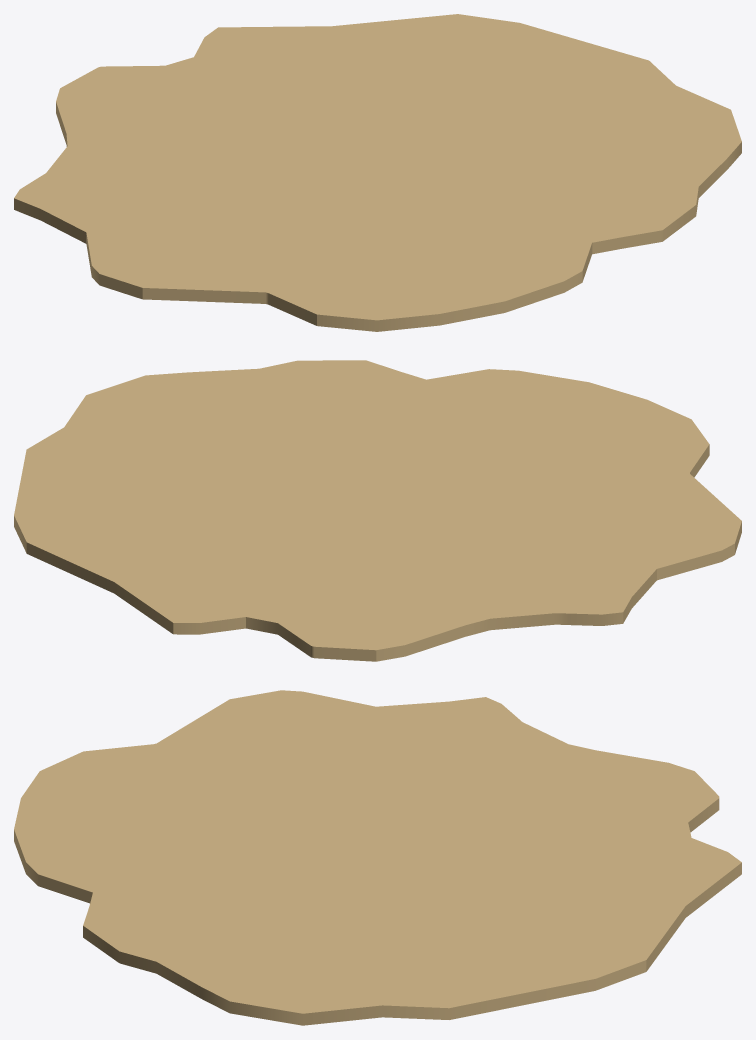
The model's file is crepe_puddle.fbx.
The picture shows the model from 3 angles, top to bottom: view 1: azimuth 30°, elevation 25°; view 2: azimuth 150°, elevation 25°; view 3: azimuth 270°, elevation 25°; orthographic projection. The views are drawn at different scales.
Parts seen in each view (by area): view 1: nurbsToPoly3; view 2: nurbsToPoly3; view 3: nurbsToPoly3.
Part boxes in pixels (x1,y1,x2,y2): nurbsToPoly3: [14, 14, 741, 331]; nurbsToPoly3: [14, 360, 741, 661]; nurbsToPoly3: [14, 690, 741, 1025].
Bounding box in the file's own units: 42.92 × 0.7397 × 40.82.
